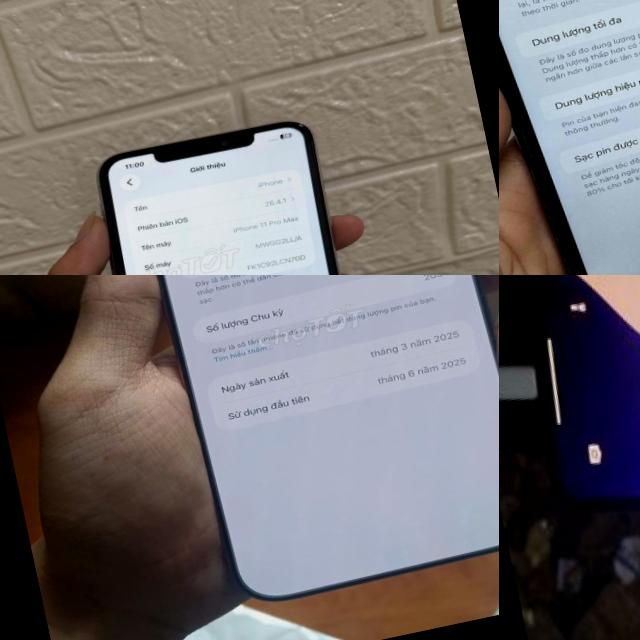scratch: (540, 197, 584, 275)
